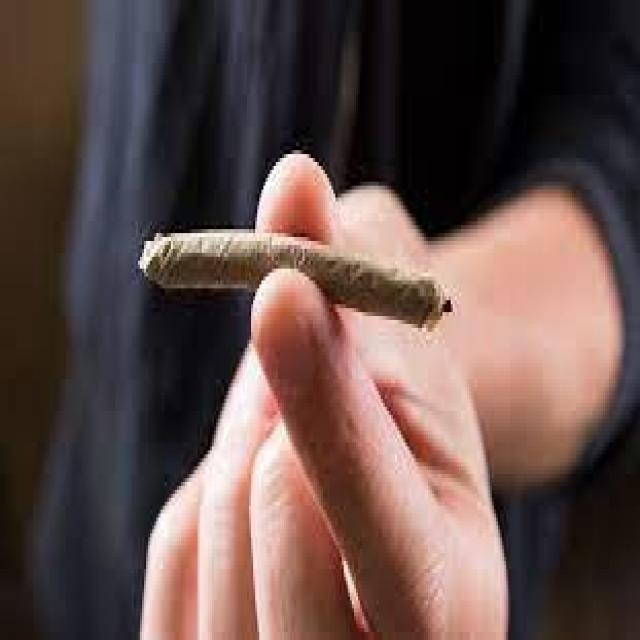smoke: (136, 221, 455, 328)
